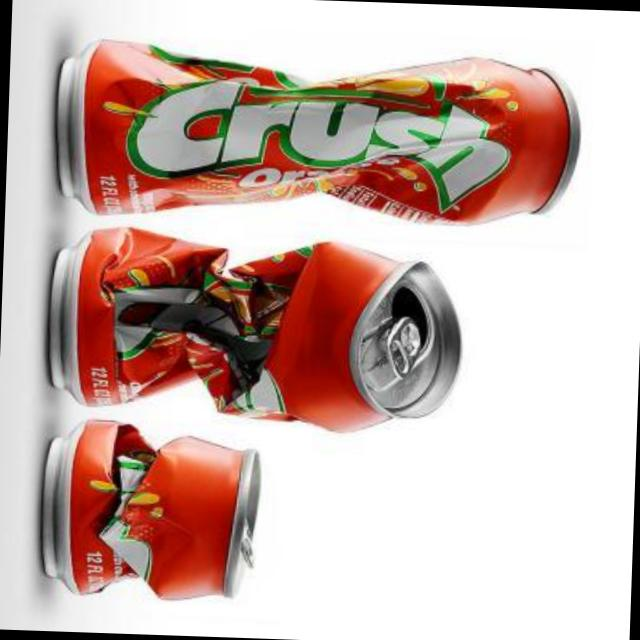metal: (59, 39, 580, 220), (51, 226, 462, 428), (44, 419, 262, 596)
